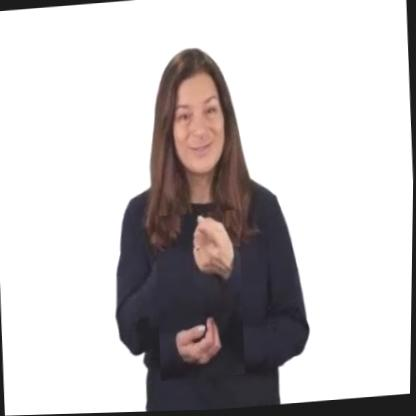HowAreYou: (153, 211, 248, 382)
